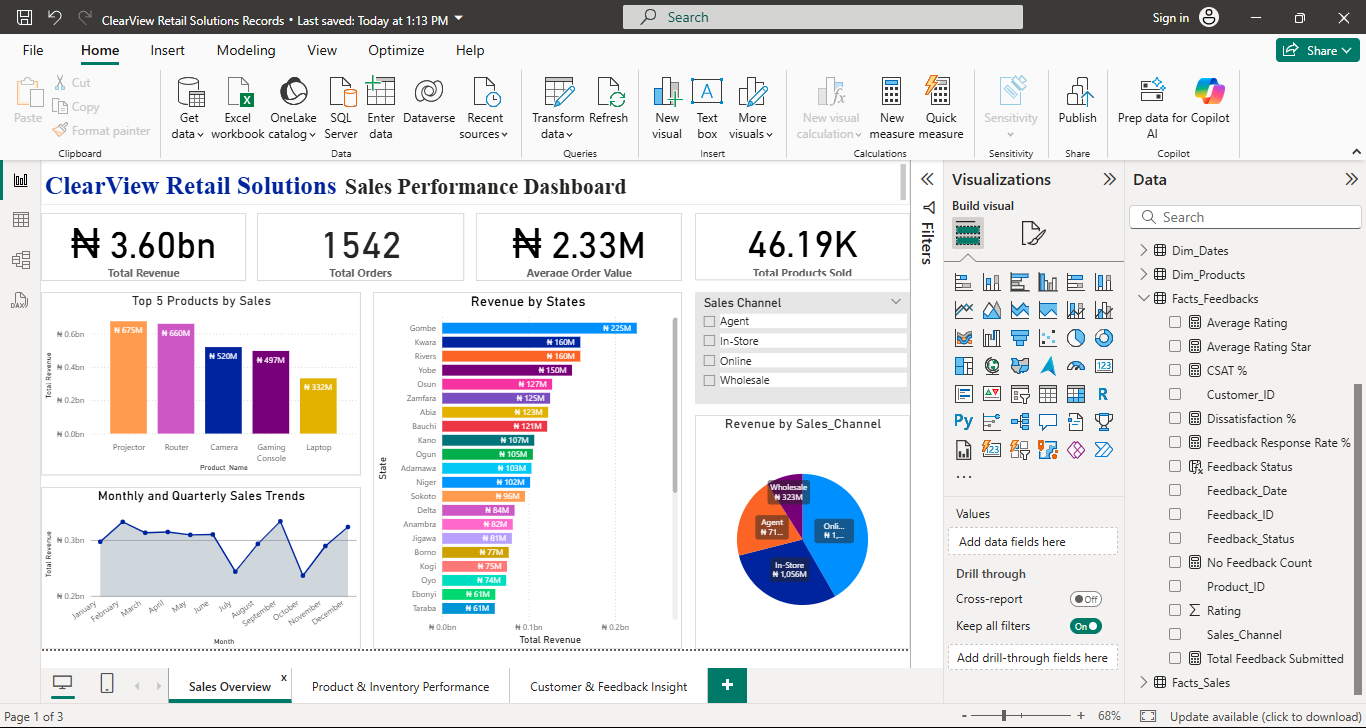

The page's visual inventory and layout, read from the dashboard file:
{"tool":"powerbi","page":{"name":"Sales Overview","canvas":[1280,720],"ordinal":0},"visuals":[{"type":"textbox","box":[0,0,1280.2,66.2],"z":0},{"type":"card","fields":{"Values":["Facts_Sales.Total Revenue"]},"box":[0,78.1,302,100.2],"z":1000},{"type":"card","fields":{"Values":["Facts_Sales.Total Orders"]},"box":[318.2,78.1,304.9,100.2],"z":2000},{"type":"card","fields":{"Values":["Facts_Sales.Average Order Value"]},"box":[640.7,78.1,303.4,100.2],"z":3000},{"type":"card","fields":{"Values":["Facts_Sales.Total Products Sold"]},"box":[963.3,78.1,316.7,98.7],"z":4000},{"type":"pieChart","title":"Revenue by Sales_Channel","fields":{"Y":["Facts_Sales.Total Revenue"],"Category":["Facts_Sales.Sales_Channel"]},"box":[963.3,375.6,316.7,344.7],"z":5000},{"type":"columnChart","title":"Top 5 Products by Sales","fields":{"Category":["Facts_Sales.Product_Name"],"Y":["Facts_Sales.Total Revenue"],"Series":["Facts_Sales.Product_Name"]},"box":[0,194.4,471.3,269.6],"z":6000},{"type":"barChart","title":"Revenue by States","fields":{"Category":["Facts_Sales.Region"],"Y":["Facts_Sales.Total Revenue"],"Series":["Facts_Sales.Region"]},"box":[489,194.4,455.1,525.8],"z":7000},{"type":"lineChart","title":"Monthly and Quarterly Sales Trends","fields":{"Y":["Facts_Sales.Total Revenue"],"Category":["Facts_Sales.Order_Date.Variation.Date Hierarchy.Month"]},"box":[0,481.7,471.3,238.6],"z":8000},{"type":"slicer","title":"Sales Channel","fields":{"Values":["Facts_Sales.Sales_Channel"]},"box":[963.3,194.4,316.7,165],"z":9000}]}

Visuals, with their boxes on the page's 1280x720 design canvas (x1, y1, x2, y2). These are canvas units, not pixel positions in the 1366x728 screenshot, which may show the page scaled, cropped or inside an application window:
textbox: x1=0, y1=0, x2=1280, y2=66
card - Facts_Sales.Total Revenue: x1=0, y1=78, x2=302, y2=178
card - Facts_Sales.Total Orders: x1=318, y1=78, x2=623, y2=178
card - Facts_Sales.Average Order Value: x1=641, y1=78, x2=944, y2=178
card - Facts_Sales.Total Products Sold: x1=963, y1=78, x2=1280, y2=177
"Revenue by Sales_Channel" pieChart: x1=963, y1=376, x2=1280, y2=720
"Top 5 Products by Sales" columnChart: x1=0, y1=194, x2=471, y2=464
"Revenue by States" barChart: x1=489, y1=194, x2=944, y2=720
"Monthly and Quarterly Sales Trends" lineChart: x1=0, y1=482, x2=471, y2=720
"Sales Channel" slicer: x1=963, y1=194, x2=1280, y2=359
